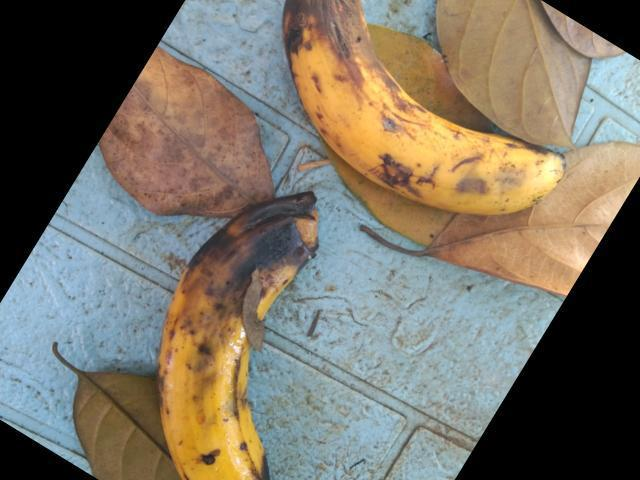overripe: (314, 49, 575, 226), (131, 311, 299, 479)
rotten: (149, 167, 340, 362), (265, 0, 395, 97)
